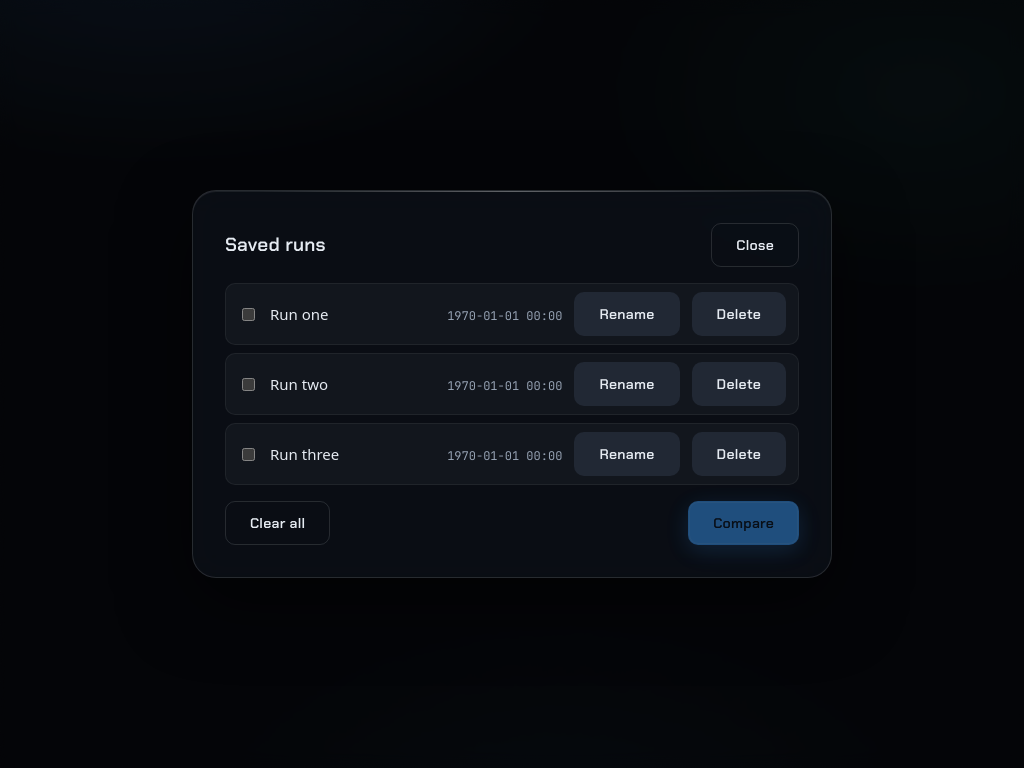
it: RunsPanel › Compare is enabled only with exactly two selected; a third checkbox is blocked
Expected: the button "Compare" is disabled, [688,501,799,545]
Click the checkbox named "Select Run one for compare".
click(248, 314)  # box [242,308,255,320]
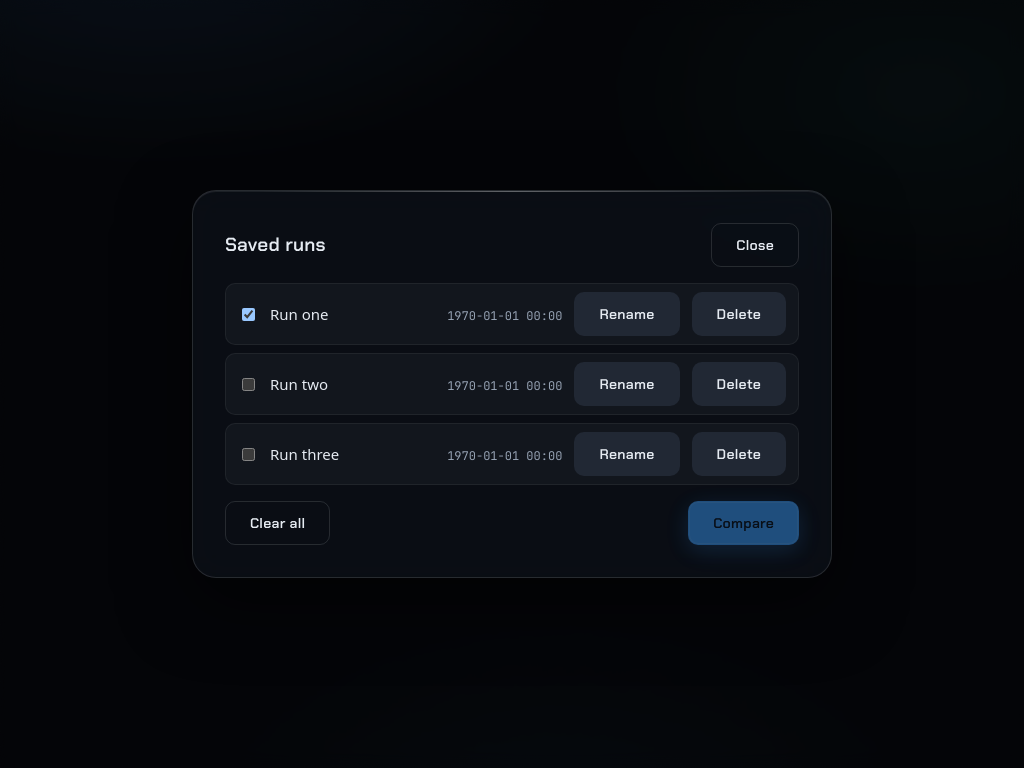
Expected: the button "Compare" is disabled, [688,501,799,545]
Click the checkbox named "Select Run two for compare".
click(248, 384)  # box [242,378,255,390]
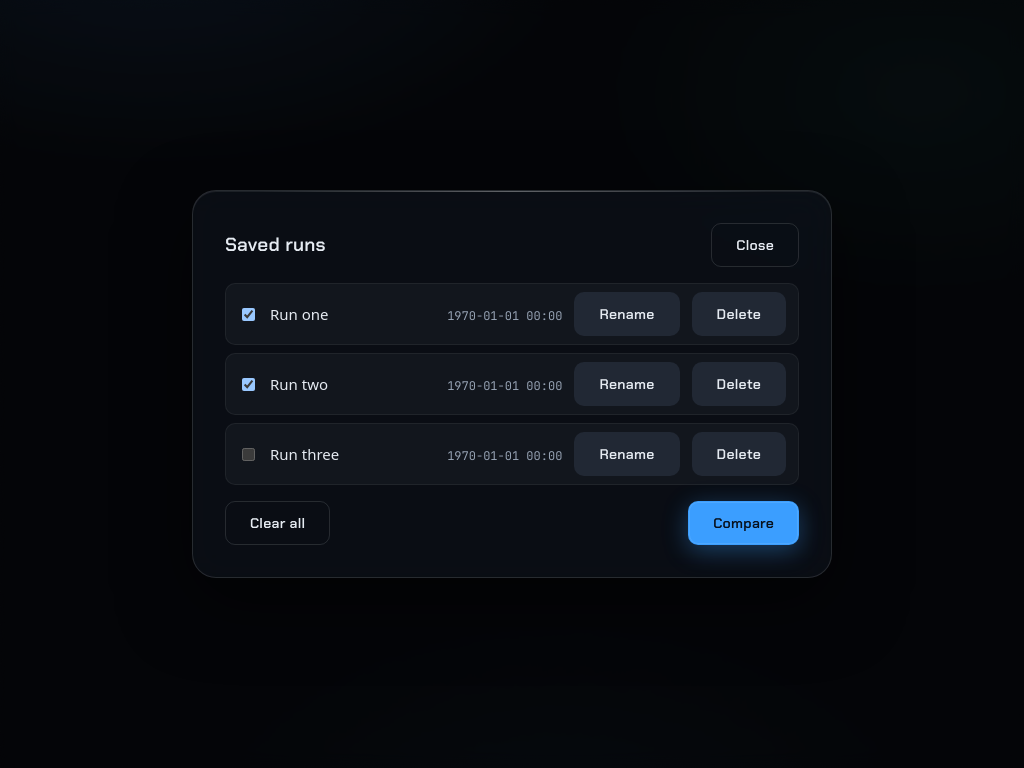
Now the button "Compare" is enabled, box [688,501,799,545]
Now the checkbox named "Select Run three for compare" is disabled, box [242,448,255,460]
Click the checkbox named "Select Run one for compare".
click(248, 314)  # box [242,308,255,320]
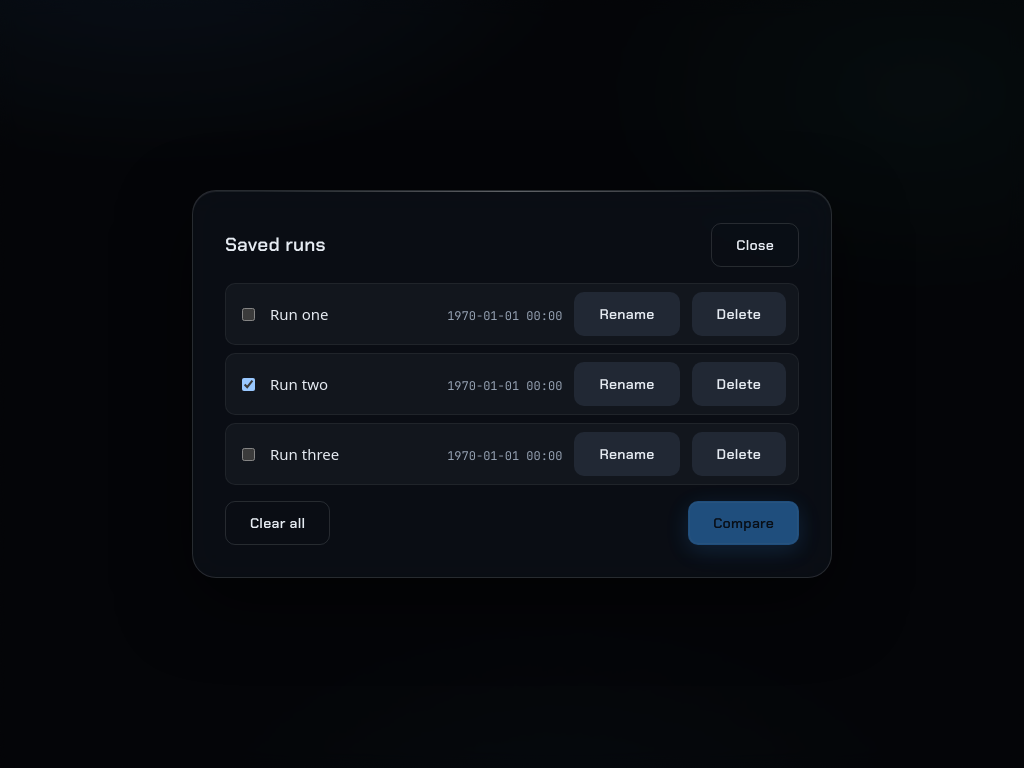
Now the checkbox named "Select Run three for compare" is enabled, box [242,448,255,460]
